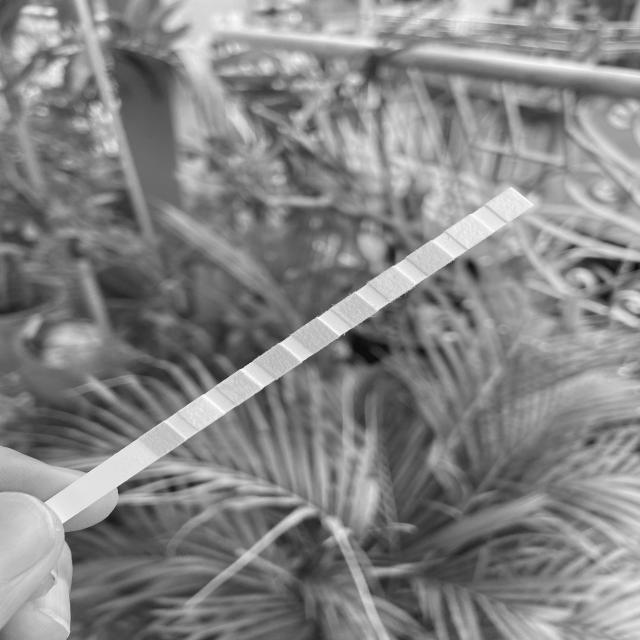Bilirubin: (189, 403, 213, 422)
Blood: (304, 326, 328, 344)
Glucose: (150, 429, 176, 448)
Ketone: (227, 378, 251, 396)
Leukocytes: (497, 196, 522, 213)
Nitrite: (459, 222, 481, 242)
Protein: (381, 274, 404, 293)
SpGravity: (266, 352, 292, 370)
Urobilinogen: (418, 249, 441, 267)
background: (0, 0, 640, 640)
pH: (341, 300, 366, 318)
strip: (44, 188, 533, 524)
